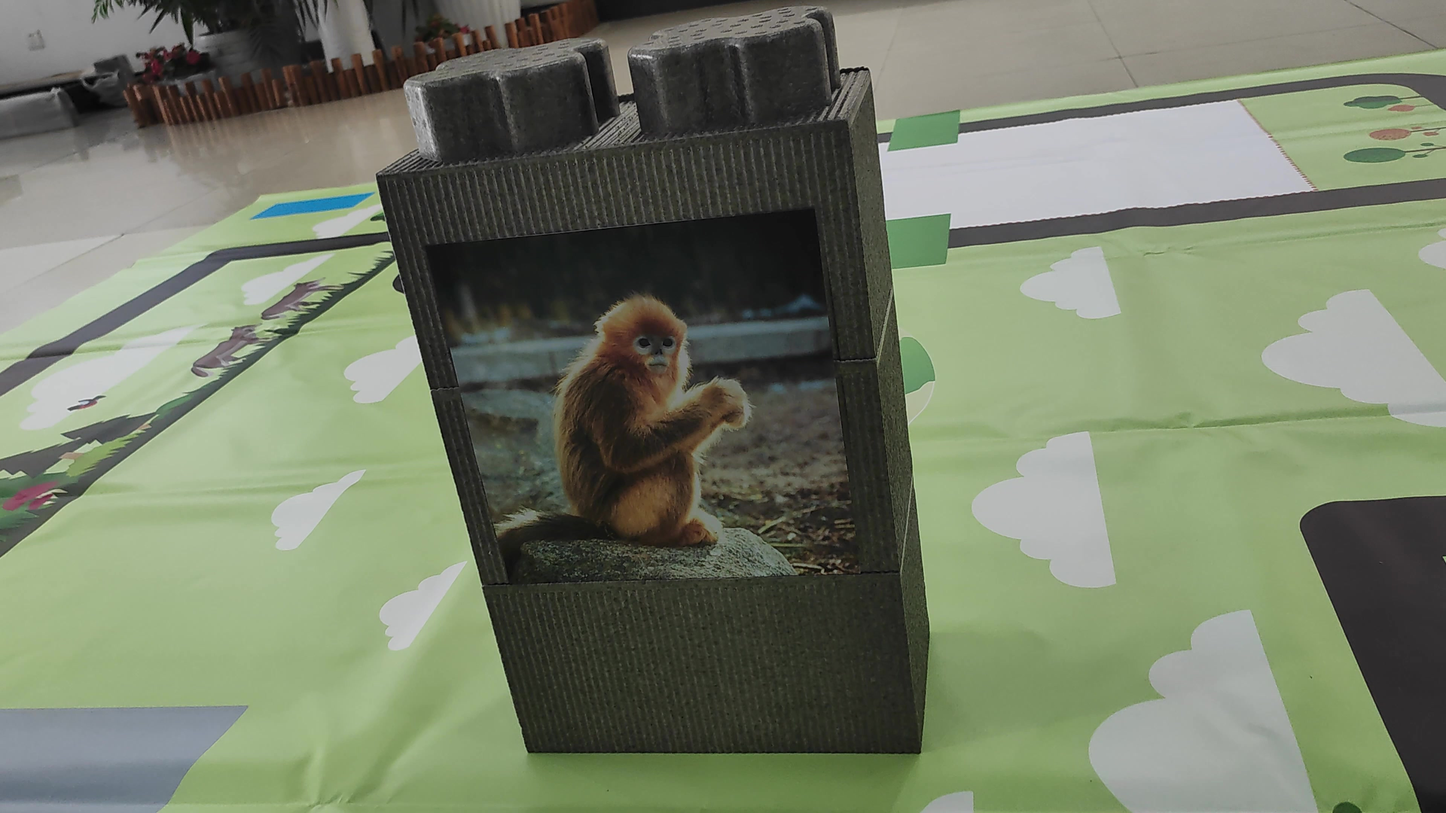monkey: (492, 269, 765, 575)
